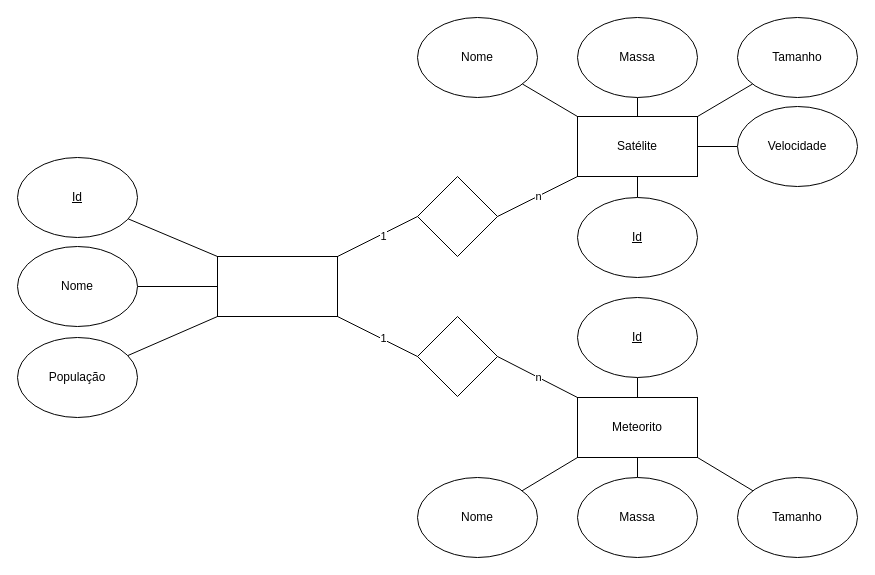
Some shapes in this 875 by 575 pixel diagram are drawn without their labels. Here are the shapes that lost their labels. From the top down, the centre of each, then its label:
At point (457, 216): "Orbitado".
At point (277, 286): "Planeta".
At point (457, 356): "Atingido".
